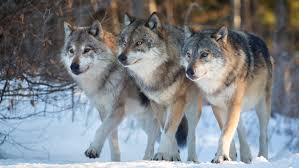wolf: (57, 23, 188, 164), (119, 17, 221, 168), (181, 27, 273, 168)
